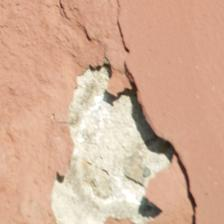Crack: (63, 32, 136, 189)
